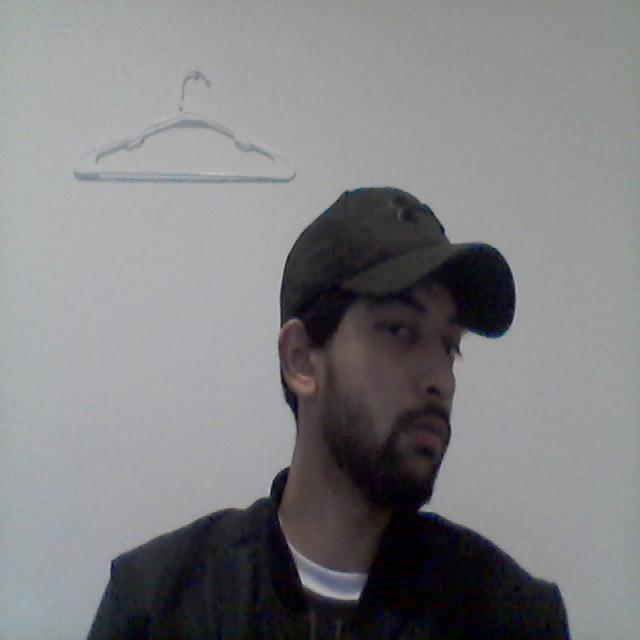cap: (249, 172, 522, 343)
